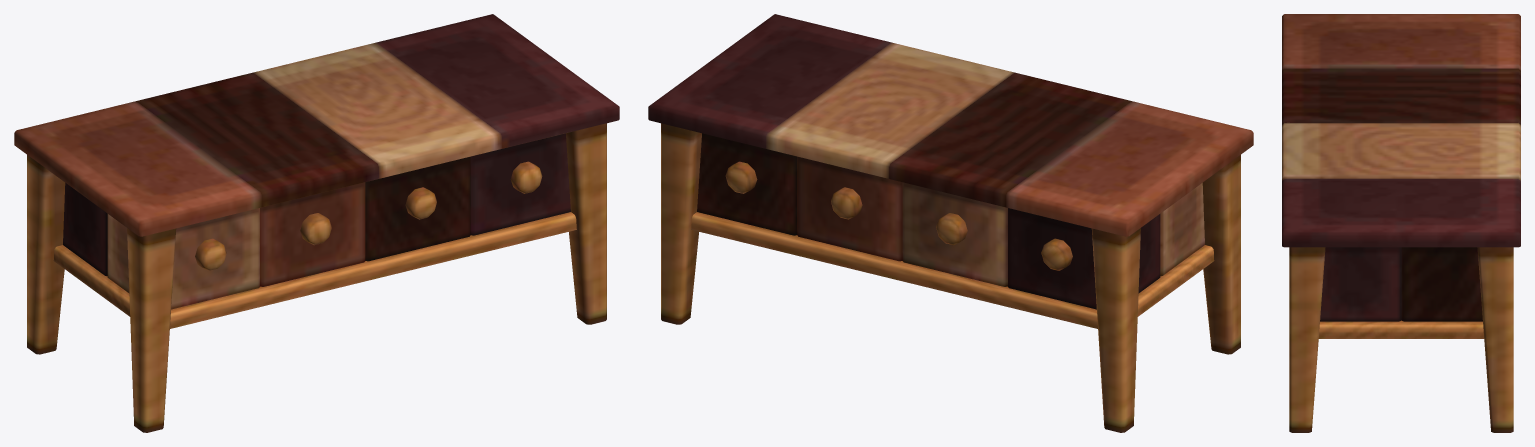
The model's file is rmk_mxw_tableM.dae.
The picture shows the model from 3 angles, left to right: view 1: azimuth 30°, elevation 25°; view 2: azimuth 150°, elevation 25°; view 3: azimuth 270°, elevation 25°; orthographic projection. The views are drawn at different scales.
Visible parts, largest first — view 1: rmk_mxw_tableM; view 2: rmk_mxw_tableM; view 3: rmk_mxw_tableM.
Part boxes in pixels (x1,y1,x2,y2): rmk_mxw_tableM: [14, 14, 619, 432]; rmk_mxw_tableM: [648, 14, 1253, 432]; rmk_mxw_tableM: [1282, 14, 1520, 432].
Bounding box in the file's own units: 56 × 24 × 25.6.
Materials: 1 (1 with a texture image).
